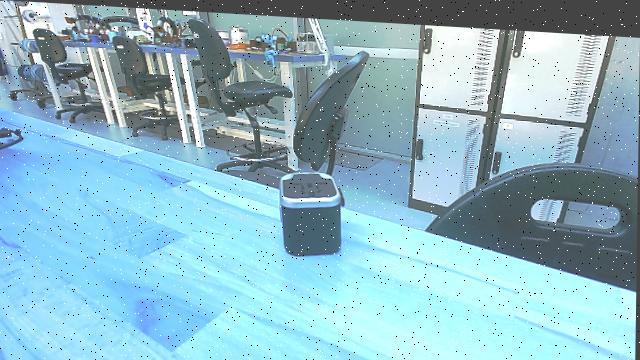adapter: (275, 161, 348, 262)
